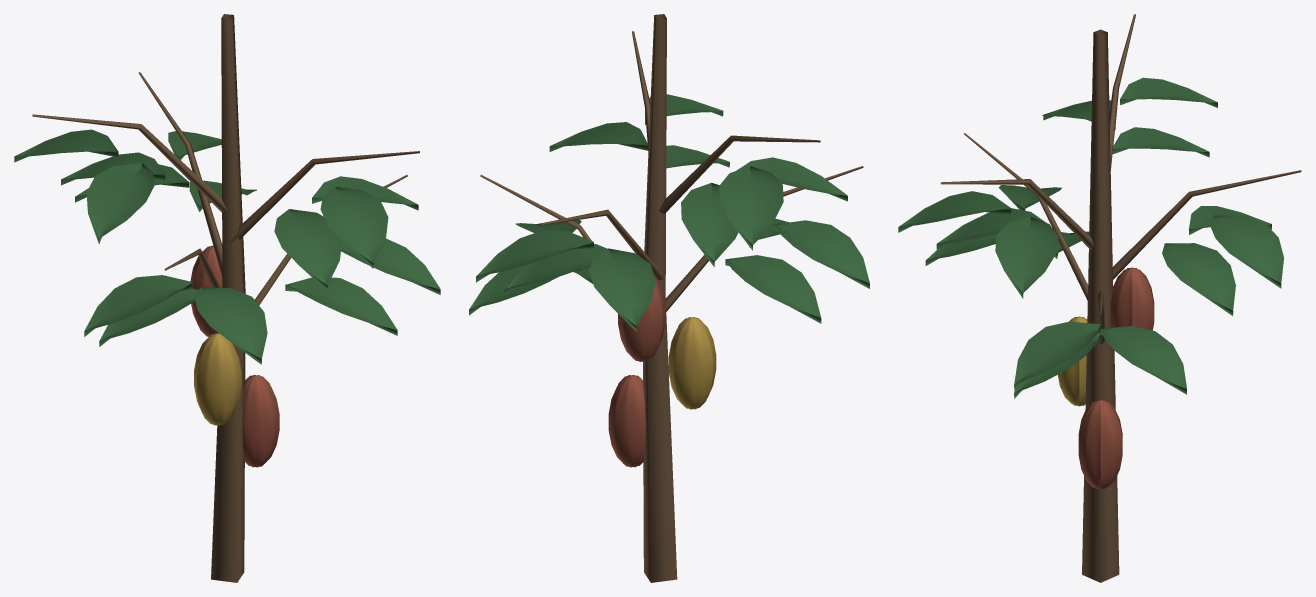
Rendered from cacao.glb.
3 views of the same model, side by side, from view 1: azimuth 30°, elevation 25°; view 2: azimuth 150°, elevation 25°; view 3: azimuth 270°, elevation 25° (orthographic). The views are drawn at different scales.
Parts seen in each view (by area): view 1: cacao; view 2: cacao; view 3: cacao.
Boxes of the visible parts, x1,y1,x2,y2 form: cacao: [14, 14, 440, 582]; cacao: [469, 14, 869, 582]; cacao: [898, 14, 1301, 582].
Size of the model in its own units: 1.39 by 2.08 by 1.4.
